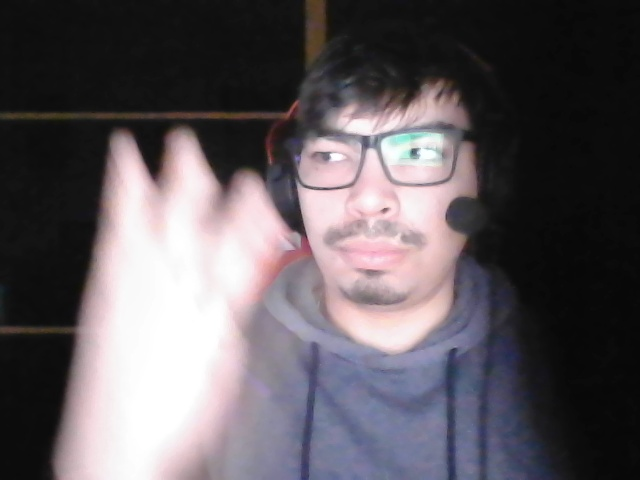three: (69, 120, 307, 480)
